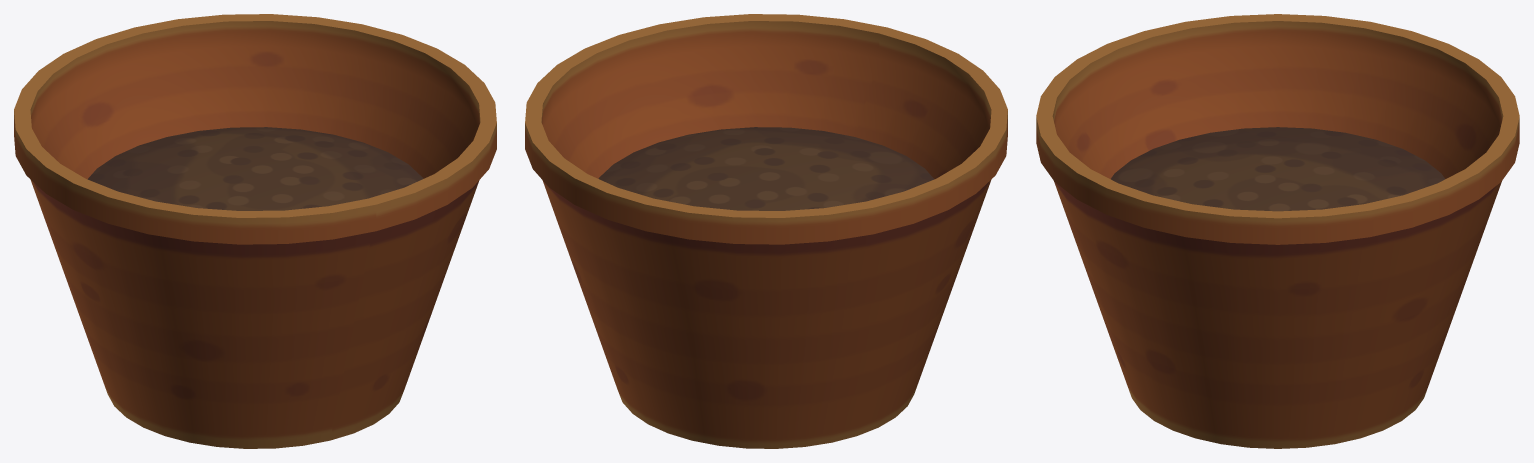
The model's file is PlantPot03.fbx.
3 views of the same model, side by side, from view 1: azimuth 30°, elevation 25°; view 2: azimuth 150°, elevation 25°; view 3: azimuth 270°, elevation 25° (orthographic).
Visible parts, largest first — view 1: Circle; view 2: Circle; view 3: Circle.
Boxes of the visible parts, box(x1,y1,x2,y2) form: Circle: box(14, 14, 496, 448); Circle: box(525, 14, 1007, 448); Circle: box(1036, 14, 1519, 448).
Bounding box in the file's own units: 1.44 × 0.8859 × 1.44.
